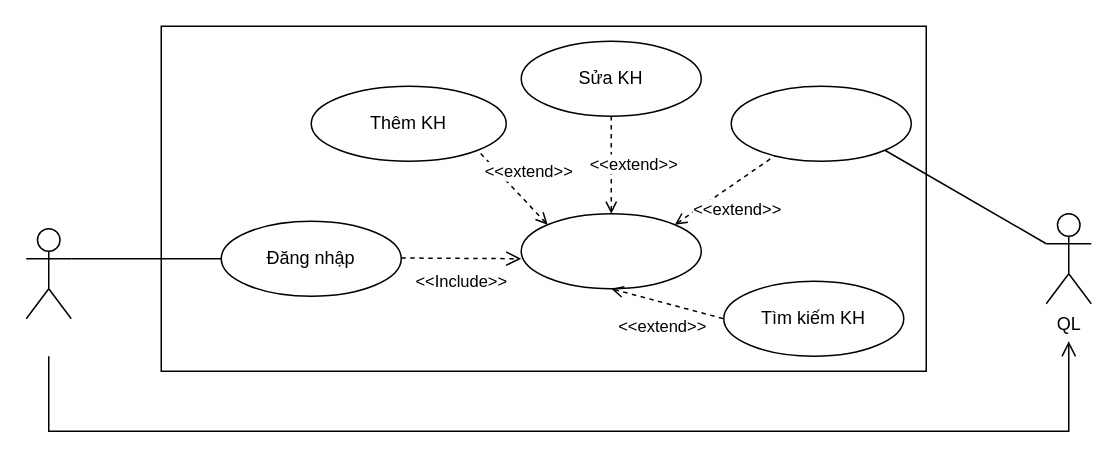
Some shapes in this 1118 by 473 pixel diagram are drawn without their labels. The centre of each missing label's shape, as x and y in pixels:
NV: pixel 48 273
QL Khách hàng: pixel 610 250
Xóa KH: pixel 820 123
